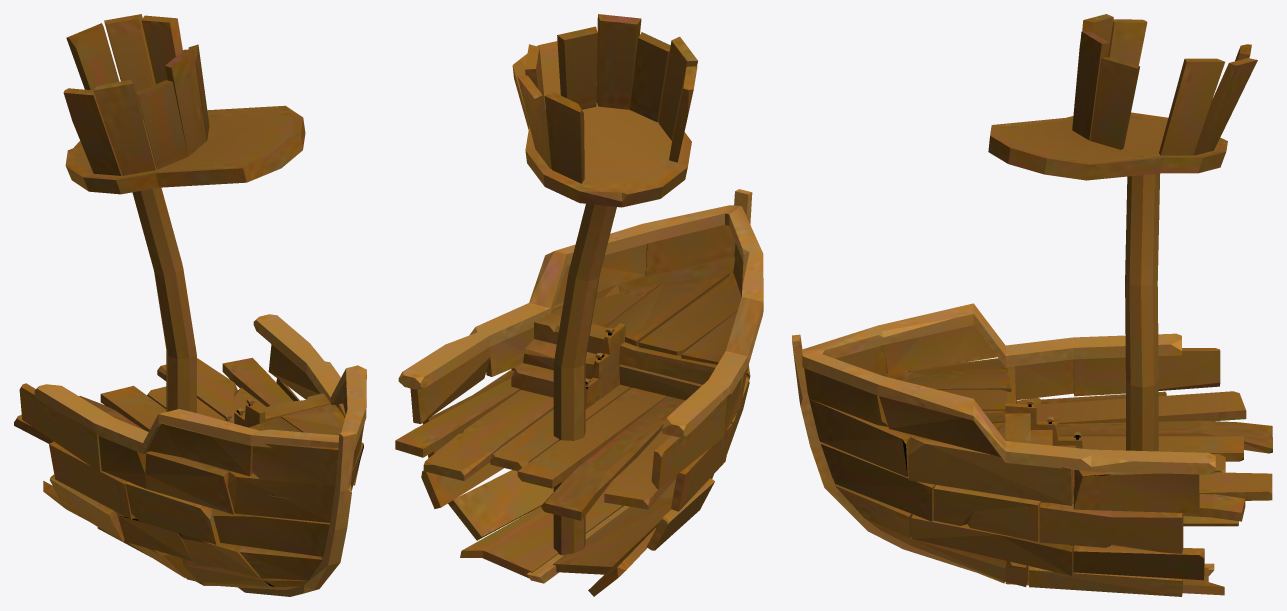
The model's file is shipwreck.glb.
The picture shows the model from 3 angles, left to right: view 1: azimuth 30°, elevation 25°; view 2: azimuth 150°, elevation 25°; view 3: azimuth 270°, elevation 25°; orthographic projection. The views are drawn at different scales.
Parts seen in each view (by area): view 1: shipwreck; view 2: shipwreck; view 3: shipwreck.
Boxes of the visible parts, bbox=[...] form: shipwreck: bbox=[14, 14, 366, 596]; shipwreck: bbox=[395, 14, 763, 596]; shipwreck: bbox=[792, 14, 1272, 596].
Bounding box in the file's own units: 4.41 × 8.4 × 6.88.
Materials: 1 (1 with a texture image).
